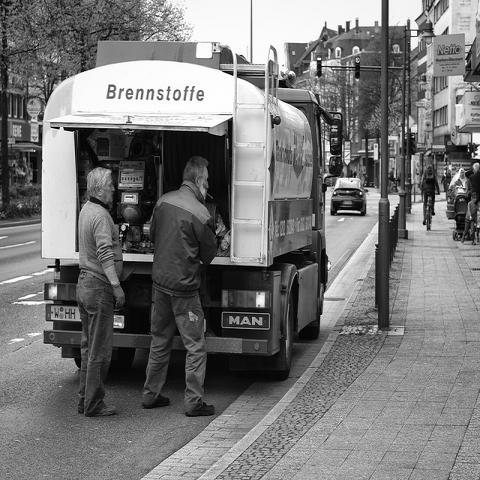car: (330, 177, 368, 216)
truck: (43, 43, 329, 390)
